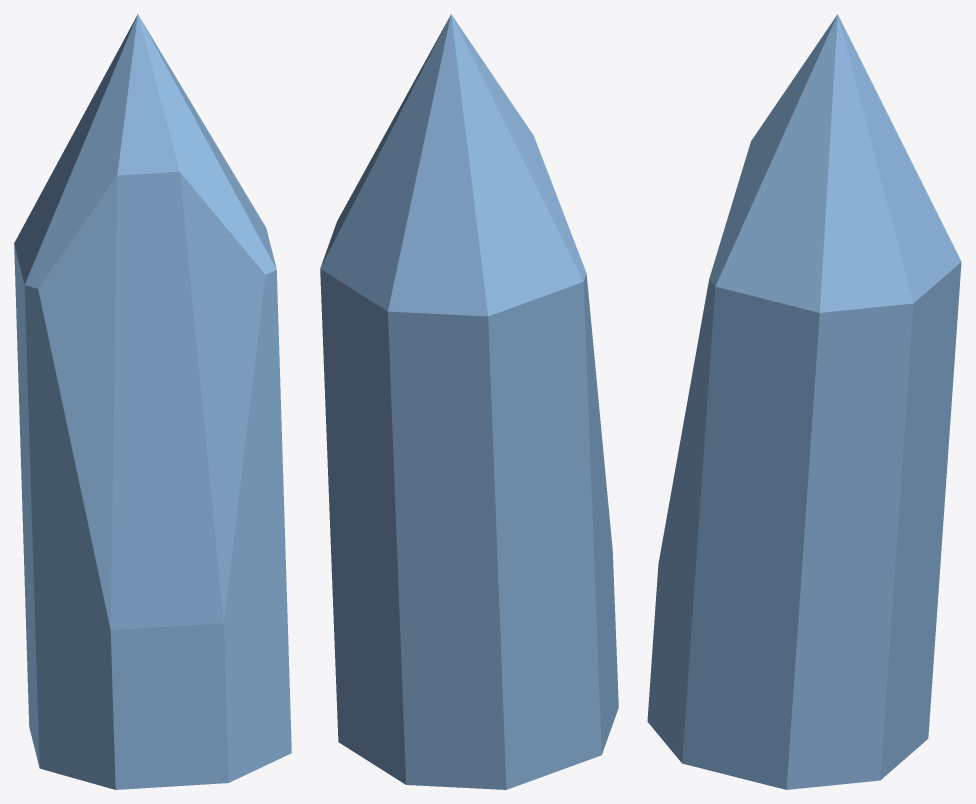
File: Cristal.fbx
The picture shows the model from 3 angles, left to right: view 1: azimuth 30°, elevation 25°; view 2: azimuth 150°, elevation 25°; view 3: azimuth 270°, elevation 25°; orthographic projection. The views are drawn at different scales.
Visible parts, largest first — view 1: bullet.001; view 2: bullet.001; view 3: bullet.001.
Boxes of the visible parts, bbox=[...] form: bullet.001: bbox=[14, 14, 291, 789]; bullet.001: bbox=[320, 14, 618, 789]; bullet.001: bbox=[647, 14, 961, 789].
Size of the model in its own units: 33.72 by 95.35 by 37.43.
Materials: 1 (1 with a texture image).
